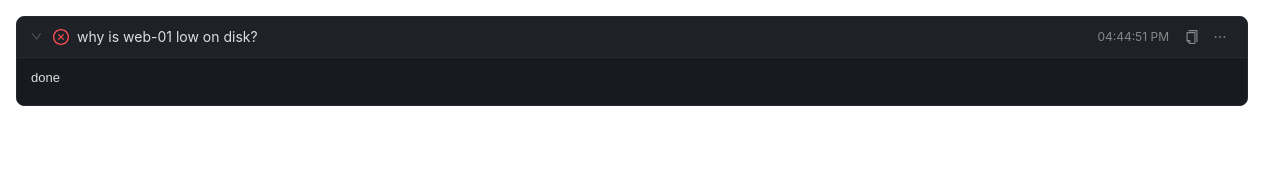
Test: OutputPanel card header › moves the prompt actions into the More menu
Expected: the text "Edit & resend" is not shown
Click the button named "More actions". click: [1220, 37]
box: top-left (1207, 25), bottom-right (1233, 49)
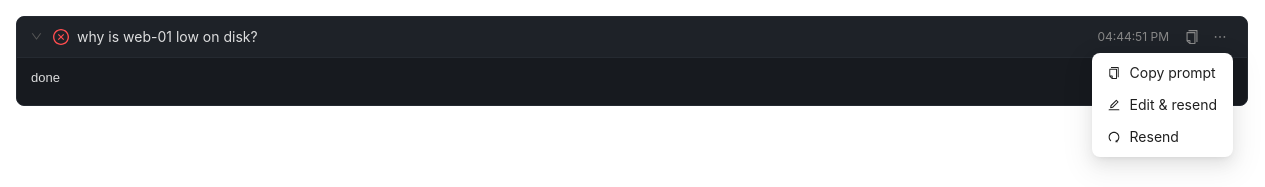
Expected: the text "Edit & resend" is shown, top-left (1130, 94), bottom-right (1217, 116)
Expected: the text "Copy prompt" is shown, top-left (1130, 62), bottom-right (1217, 84)
Expected: the text "Resend" is shown, top-left (1130, 128), bottom-right (1179, 145)
